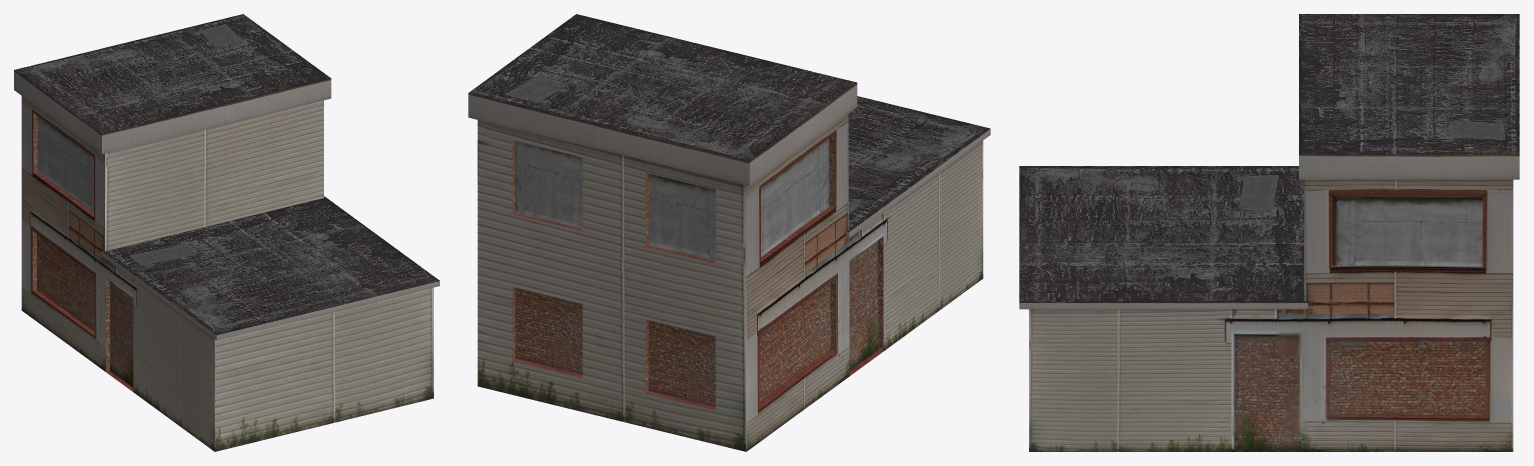
The model's file is a320_dps.FBX.
3 views of the same model, side by side, from view 1: azimuth 30°, elevation 25°; view 2: azimuth 150°, elevation 25°; view 3: azimuth 270°, elevation 25° (orthographic). The views are drawn at different scales.
Parts seen in each view (by area): view 1: a320_dps; view 2: a320_dps; view 3: a320_dps.
Boxes of the visible parts, left/top/right/bottom form: a320_dps: left=14, top=14, right=439, bottom=451; a320_dps: left=468, top=14, right=990, bottom=451; a320_dps: left=1019, top=14, right=1519, bottom=451.
Size of the model in its own units: 6.32 by 9.52 by 6.32.
